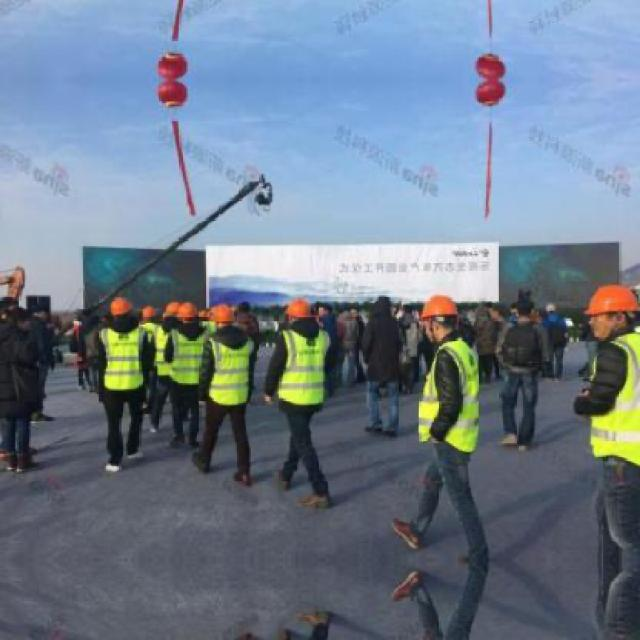con casco: (580, 276, 638, 378), (400, 282, 482, 352), (255, 283, 320, 360), (99, 289, 172, 332), (178, 293, 213, 364), (190, 295, 247, 334)
